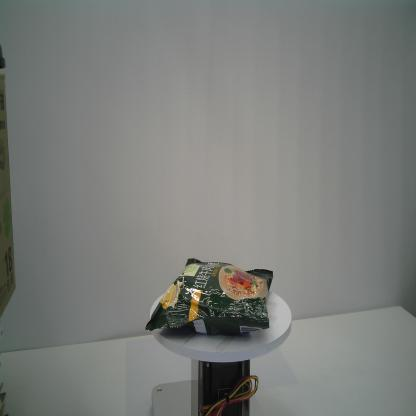Instant Noodles: (145, 258, 274, 337)
